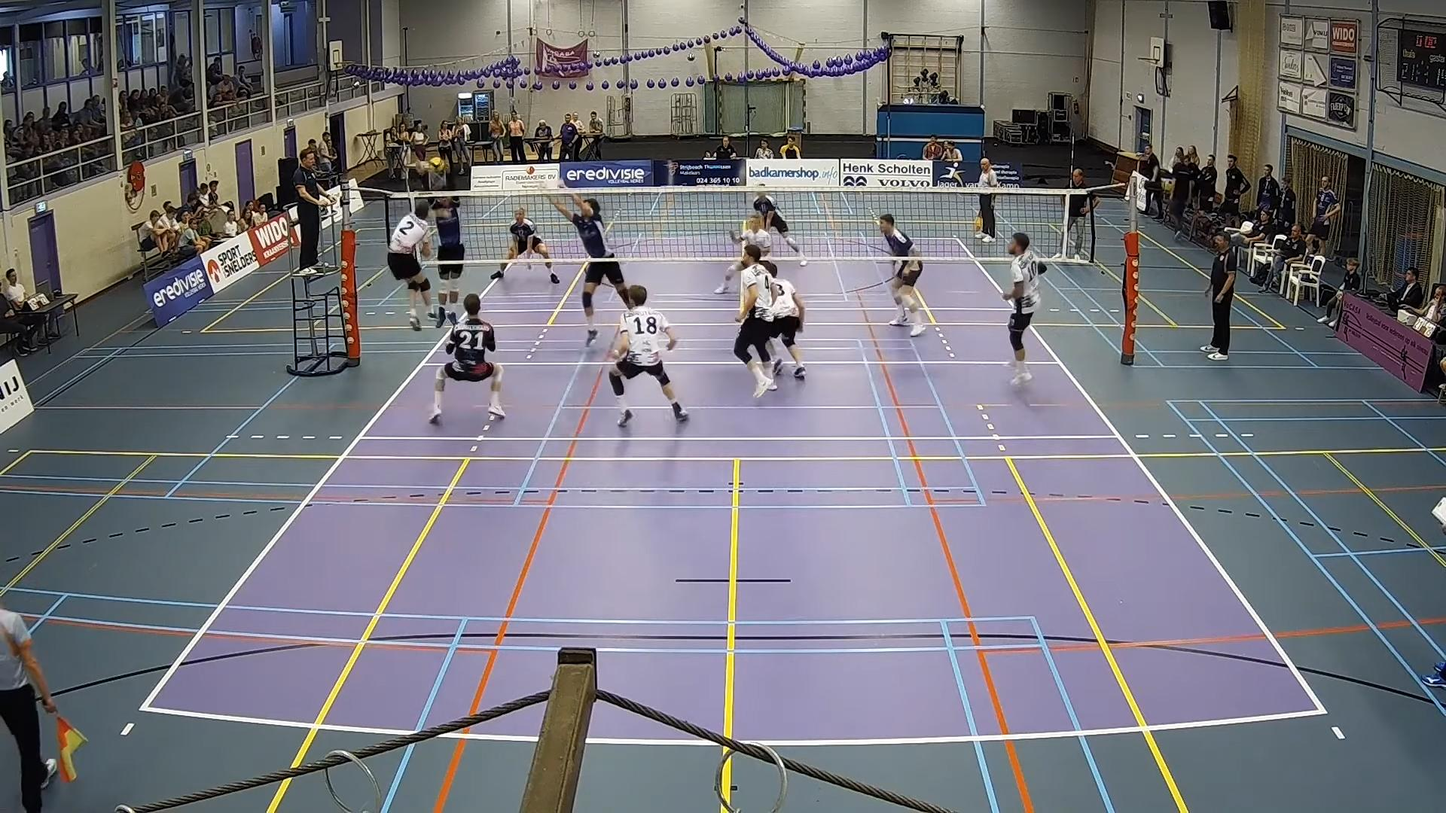Attack: (384, 197, 447, 336)
Block: (526, 176, 629, 352), (419, 181, 467, 330)
Player: (609, 285, 688, 426), (429, 294, 505, 423), (1002, 233, 1045, 385), (734, 245, 776, 397), (879, 214, 925, 336), (760, 260, 805, 379), (491, 208, 559, 283), (753, 190, 807, 265), (729, 215, 771, 257)
ball: (422, 158, 444, 171)
